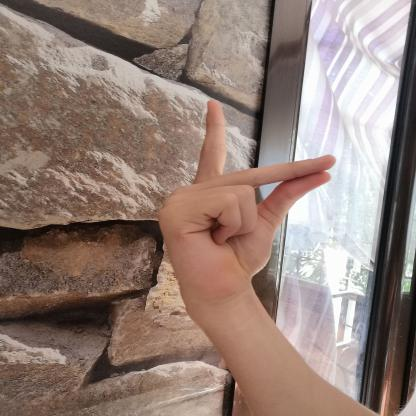TAA: (142, 91, 348, 312)
